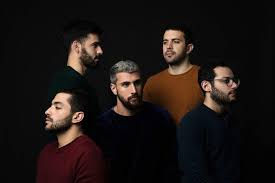middle_eastern_male: (160, 29, 195, 67)
